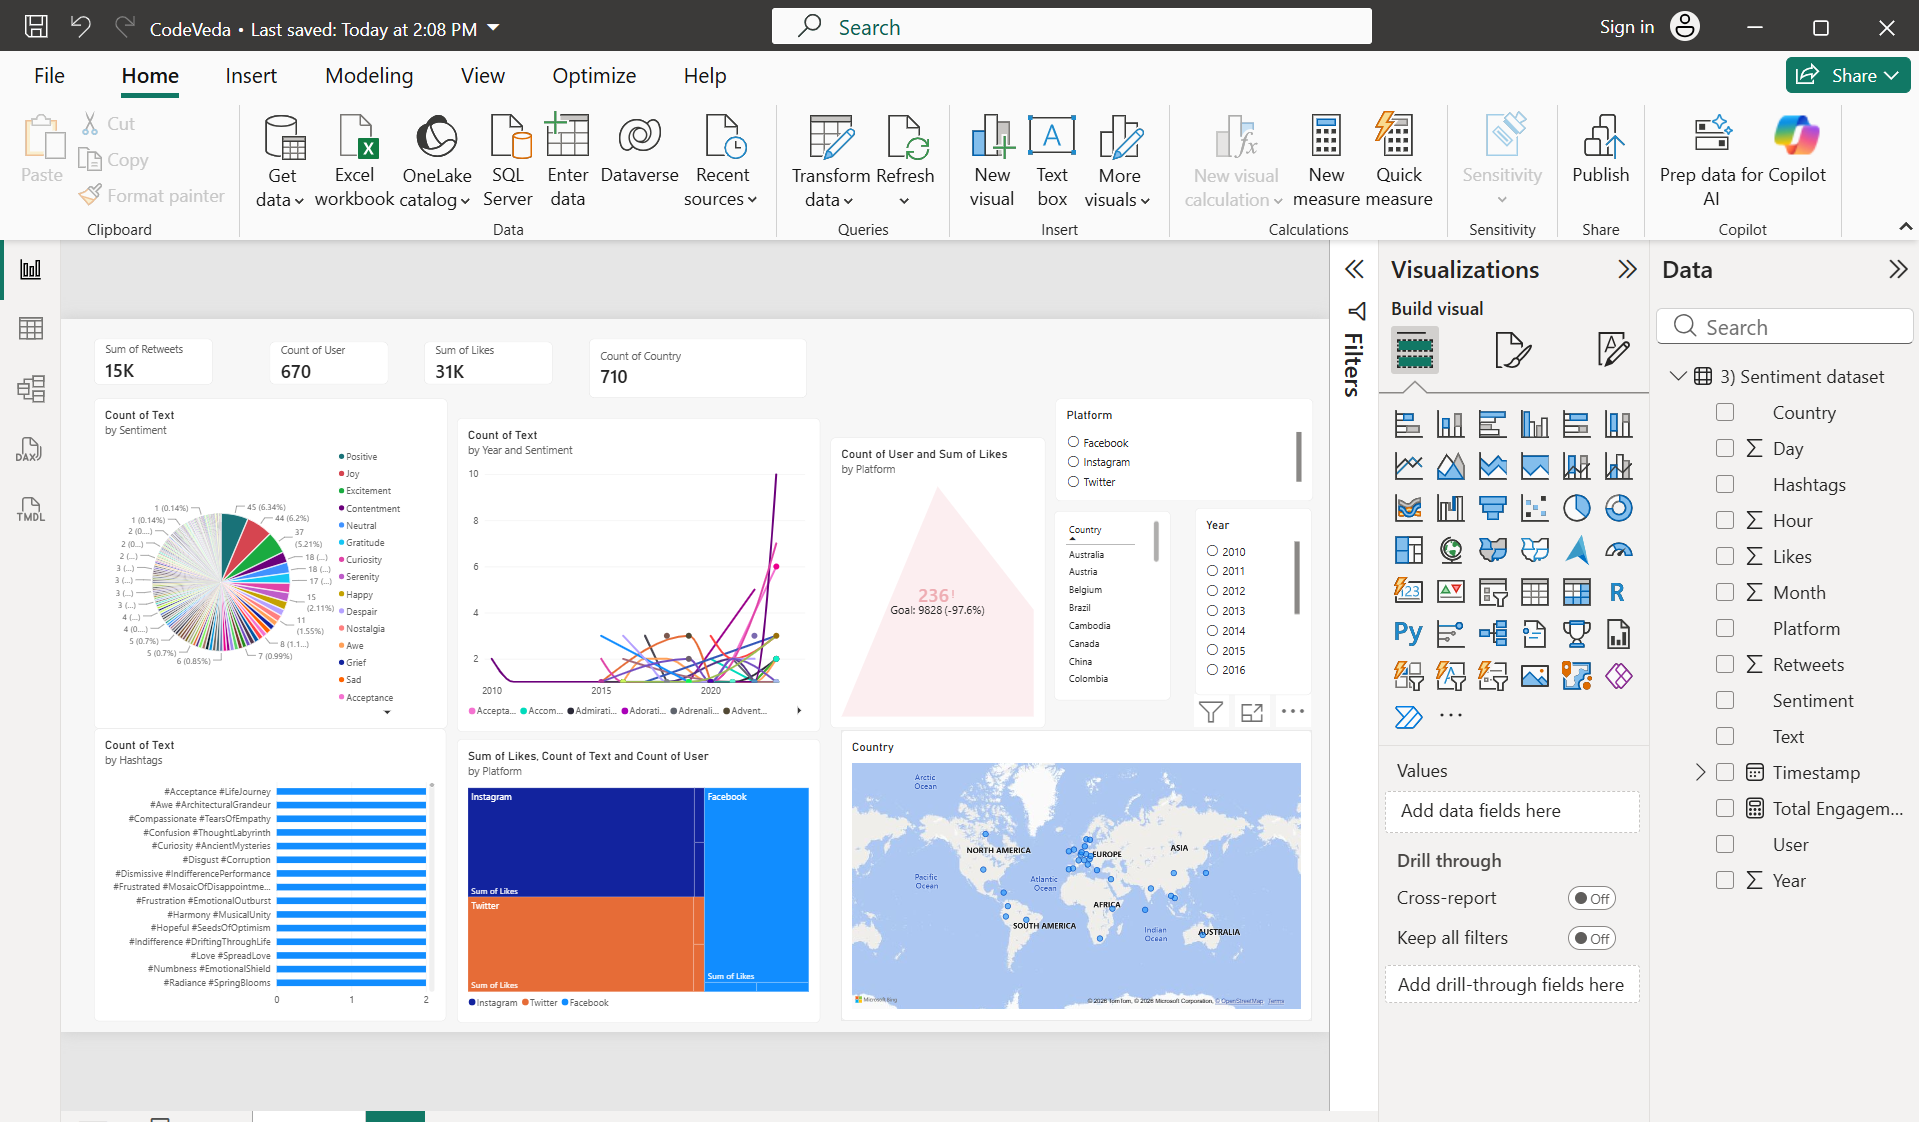

This screenshot's page, from the dashboard's own definition file:
{"tool":"powerbi","page":{"name":"Page 1","canvas":[1920,1080],"ordinal":0},"visuals":[{"type":"cardVisual","fields":{"Data":["Count(3) Sentiment dataset.User)"]},"box":[315,35,180,65],"z":0},{"type":"cardVisual","fields":{"Data":["Sum(3) Sentiment dataset.Likes)"]},"box":[550,35,195,65],"z":1000},{"type":"cardVisual","fields":{"Data":["Sum(3) Sentiment dataset.Retweets)"]},"box":[50,30,180,70],"z":2000},{"type":"pieChart","fields":{"Category":["3) Sentiment dataset.Sentiment"],"Y":["CountNonNull(3) Sentiment dataset.Text)"]},"box":[50,120,535,500],"z":3000},{"type":"barChart","fields":{"Category":["3) Sentiment dataset.Hashtags"],"Y":["CountNonNull(3) Sentiment dataset.Text)"]},"box":[50,620,533,443],"z":4000},{"type":"lineChart","fields":{"Category":["3) Sentiment dataset.Year"],"Series":["3) Sentiment dataset.Sentiment"],"Y":["CountNonNull(3) Sentiment dataset.Text)"]},"box":[600,150,550,475],"z":5000},{"type":"treemap","fields":{"Group":["3) Sentiment dataset.Platform"],"Values":["Sum(3) Sentiment dataset.Likes)","CountNonNull(3) Sentiment dataset.Text)","CountNonNull(3) Sentiment dataset.User)"]},"box":[600,635,550,430],"z":6000},{"type":"map","fields":{"Category":["3) Sentiment dataset.Country"]},"box":[1180,623.3,713.3,440],"z":7000},{"type":"listSlicer","fields":{"Values":["3) Sentiment dataset.Platform"]},"box":[1505,120,390,155],"z":8000},{"type":"tableEx","fields":{"Values":["3) Sentiment dataset.Country"]},"box":[1503.3,290,176.7,286.7],"z":9000},{"type":"listSlicer","fields":{"Values":["3) Sentiment dataset.Year"]},"box":[1716.7,286.7,176.7,283.3],"z":10000},{"type":"kpi","fields":{"Goal":["Sum(3) Sentiment dataset.Likes)"],"Indicator":["CountNonNull(3) Sentiment dataset.User)"],"TrendLine":["3) Sentiment dataset.Platform"]},"box":[1165,180,325,440],"z":10001},{"type":"cardVisual","fields":{"Data":["CountNonNull(3) Sentiment dataset.Country)"]},"box":[800,30,330,90],"z":10002},{"type":"textbox","box":[100,100,300,300],"z":10004},{"type":"textbox","box":[100,100,300,300],"z":10005},{"type":"textbox","box":[1181.1,34.1,324.8,65.9],"z":10006}]}

Visuals, with their boxes on the page's 1920x1080 design canvas (x1, y1, x2, y2). These are canvas units, not pixel positions in the 1919x1122 screenshot, which may show the page scaled, cropped or inside an application window:
cardVisual - Count(3) Sentiment dataset.User): [315,35,495,100]
cardVisual - Sum(3) Sentiment dataset.Likes): [550,35,745,100]
cardVisual - Sum(3) Sentiment dataset.Retweets): [50,30,230,100]
pieChart - 3) Sentiment dataset.Sentiment x CountNonNull(3) Sentiment dataset.Text): [50,120,585,620]
barChart - 3) Sentiment dataset.Hashtags x CountNonNull(3) Sentiment dataset.Text): [50,620,583,1063]
lineChart - 3) Sentiment dataset.Year x 3) Sentiment dataset.Sentiment: [600,150,1150,625]
treemap - 3) Sentiment dataset.Platform x Sum(3) Sentiment dataset.Likes): [600,635,1150,1065]
map - 3) Sentiment dataset.Country: [1180,623,1893,1063]
listSlicer - 3) Sentiment dataset.Platform: [1505,120,1895,275]
tableEx - 3) Sentiment dataset.Country: [1503,290,1680,577]
listSlicer - 3) Sentiment dataset.Year: [1717,287,1893,570]
kpi - Sum(3) Sentiment dataset.Likes) x CountNonNull(3) Sentiment dataset.User): [1165,180,1490,620]
cardVisual - CountNonNull(3) Sentiment dataset.Country): [800,30,1130,120]
textbox: [100,100,400,400]
textbox: [100,100,400,400]
textbox: [1181,34,1506,100]
